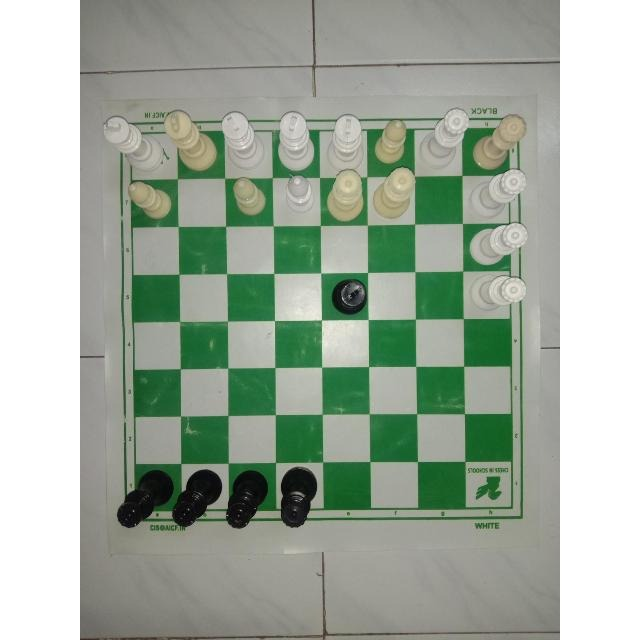black-king: (329, 275, 367, 315)
black-queen: (115, 464, 173, 529), (173, 467, 221, 531), (225, 468, 268, 530), (278, 466, 318, 526)
white-bishop: (125, 177, 177, 221), (372, 114, 412, 168), (279, 170, 318, 217), (228, 175, 268, 217)
white-king: (99, 114, 164, 172), (160, 110, 218, 171), (220, 109, 266, 171), (273, 106, 315, 172), (323, 108, 366, 170)
white-queen: (418, 104, 468, 168), (473, 110, 525, 169), (469, 169, 527, 219), (465, 223, 527, 267), (370, 167, 416, 223), (466, 274, 527, 316), (323, 167, 366, 223)
